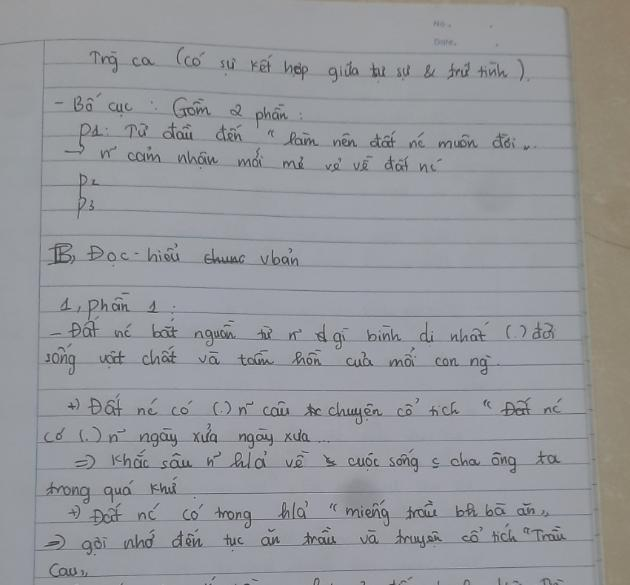text: (41, 520, 569, 559), (66, 389, 566, 429), (88, 43, 532, 86), (47, 313, 558, 349), (40, 340, 501, 379), (66, 496, 551, 531), (73, 447, 564, 476), (78, 121, 540, 151), (62, 141, 444, 176), (52, 89, 305, 129), (46, 239, 301, 271), (41, 424, 332, 449), (43, 474, 180, 506), (59, 289, 161, 322), (46, 560, 92, 582), (76, 171, 102, 199), (76, 193, 96, 222), (432, 36, 457, 49), (433, 18, 447, 29)
